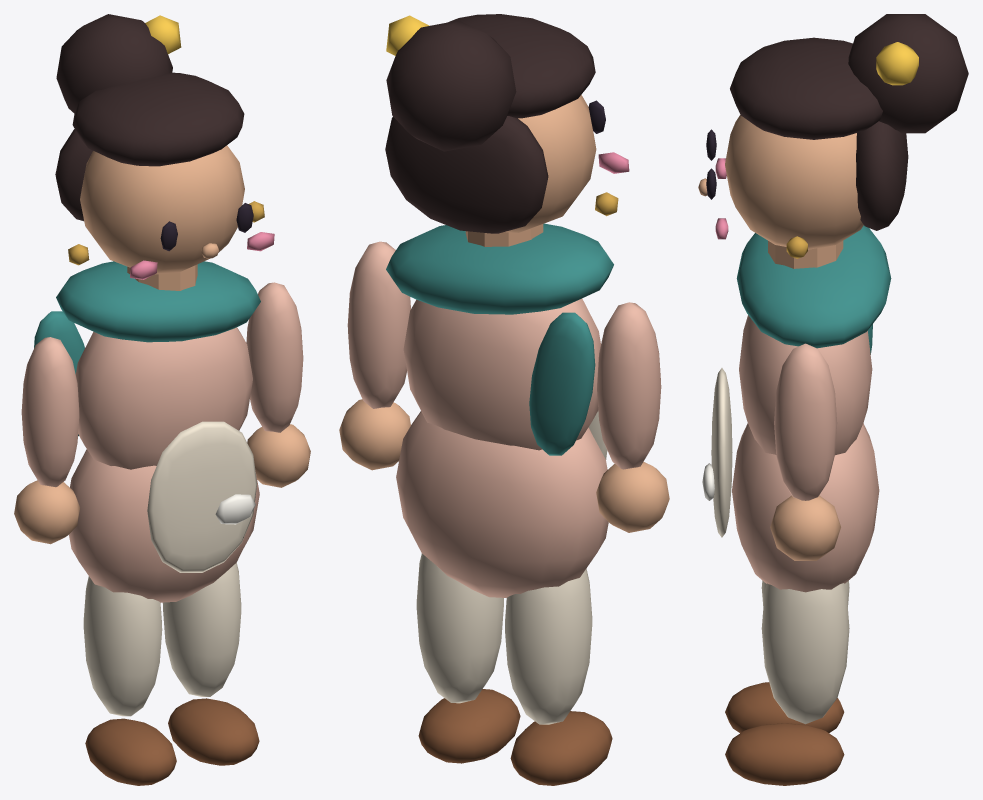
File: maya.glb
The picture shows the model from 3 angles, left to right: view 1: azimuth 30°, elevation 25°; view 2: azimuth 150°, elevation 25°; view 3: azimuth 270°, elevation 25°; orthographic projection. The views are drawn at different scales.
Parts seen in each view (by area): view 1: body, head, legL, legR, armL, armR; view 2: body, head, legL, legR, armL, armR; view 3: head, body, legR, armR, legL.
Boxes of the visible parts, x1,y1,x2,y2 form: body: (34, 261, 260, 602); head: (55, 14, 274, 279); legL: (83, 576, 176, 785); legR: (162, 563, 259, 765); armL: (14, 337, 79, 544); armR: (246, 282, 310, 487); body: (386, 223, 613, 597); head: (385, 14, 629, 233); legL: (505, 568, 612, 785); legR: (416, 553, 520, 763); armL: (596, 302, 669, 532); armR: (339, 241, 410, 470); head: (698, 14, 968, 258); body: (702, 225, 891, 592); legR: (725, 583, 849, 785); armR: (770, 343, 840, 560); legL: (725, 580, 849, 733).
Size of the model in its own units: 0.7984 by 1.88 by 0.6209.
